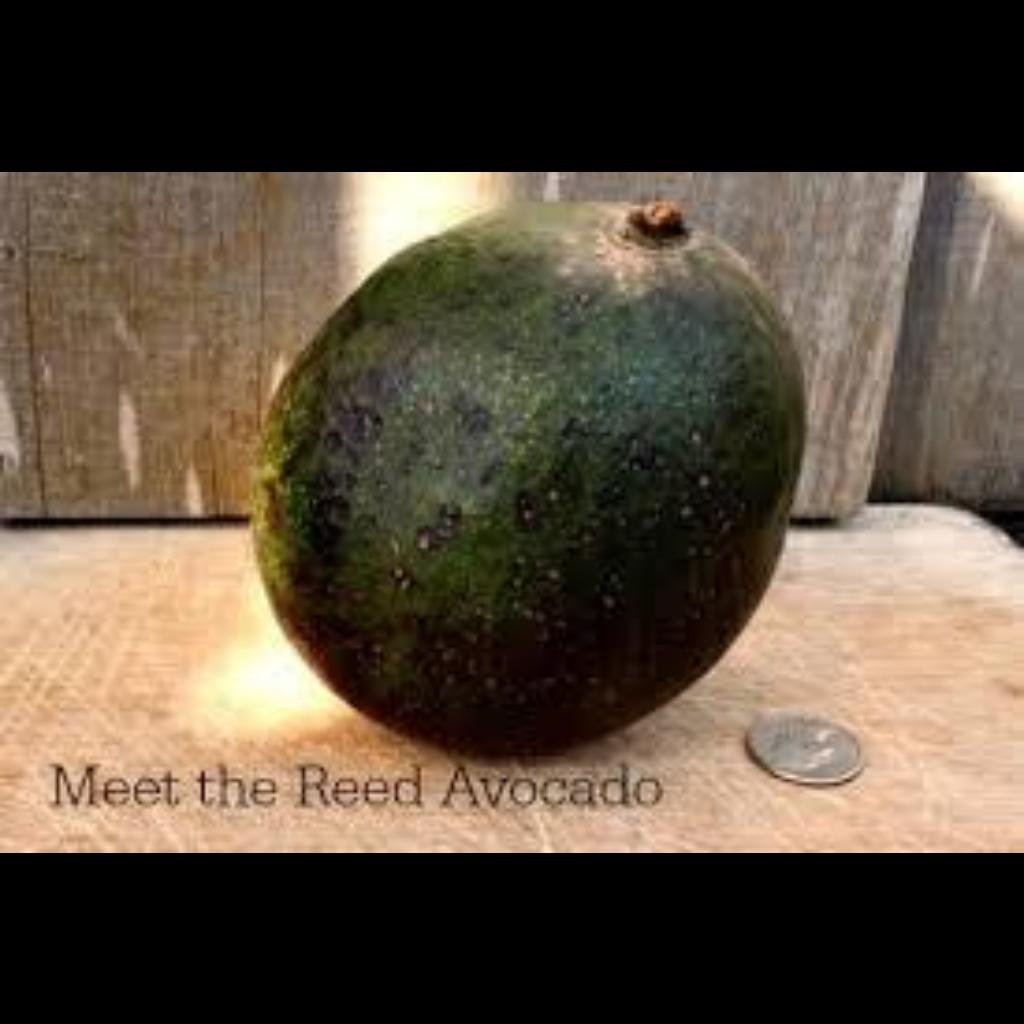antracnosis_fruto: (242, 234, 752, 733)
